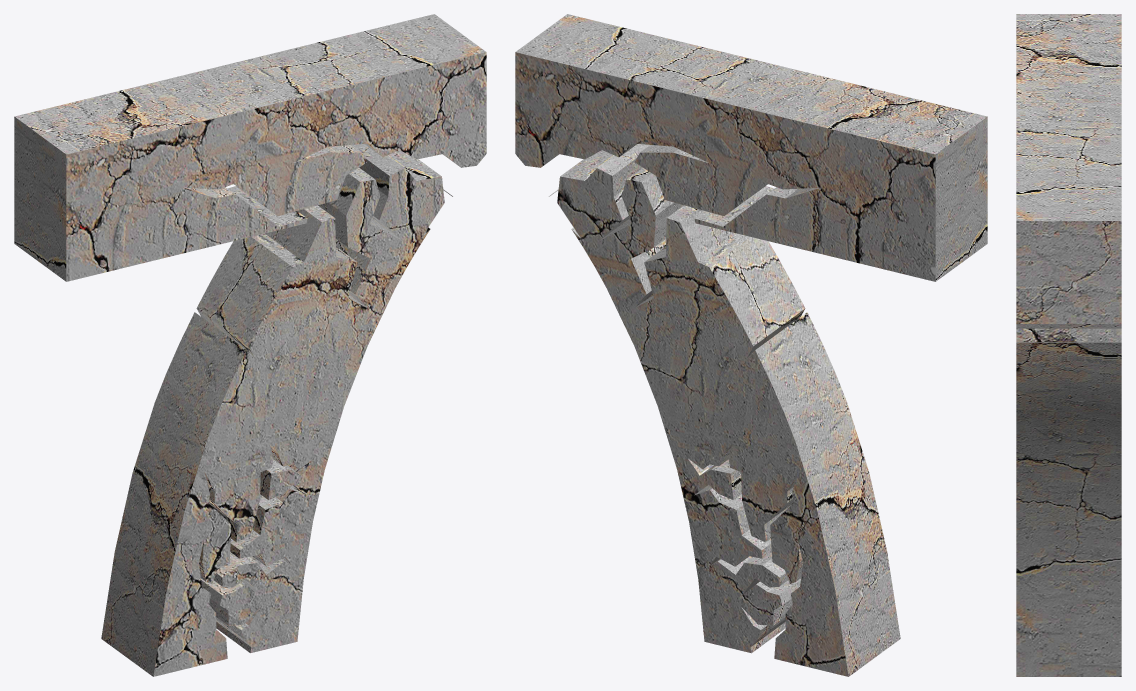
The picture shows the model from 3 angles, left to right: view 1: azimuth 30°, elevation 25°; view 2: azimuth 150°, elevation 25°; view 3: azimuth 270°, elevation 25°; orthographic projection.
Visible parts, largest first — view 1: 7; view 2: 7; view 3: 7.
Part boxes in pixels (left/top/right/bottom): 7: left=14, top=14, right=486, bottom=676; 7: left=515, top=14, right=987, bottom=676; 7: left=1016, top=14, right=1121, bottom=676.
Size of the model in its own units: 69.87 by 86.36 by 15.
Materials: 1 (1 with a texture image).
